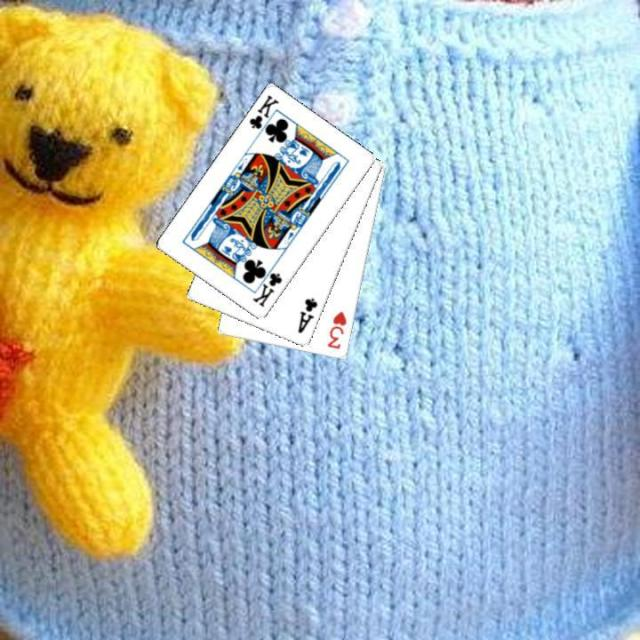3H: (324, 308, 348, 351)
AC: (293, 294, 320, 335)
KC: (245, 92, 281, 140), (249, 262, 283, 310)
